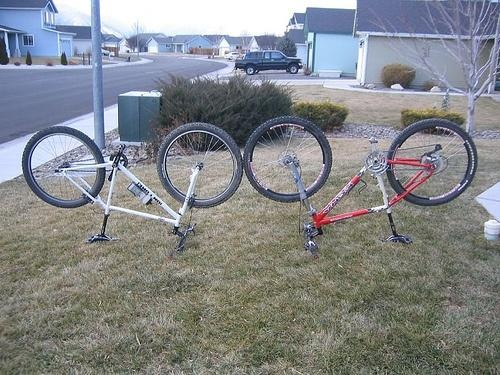bicycle: (243, 117, 480, 256), (22, 124, 243, 255)
car: (236, 50, 304, 76)
